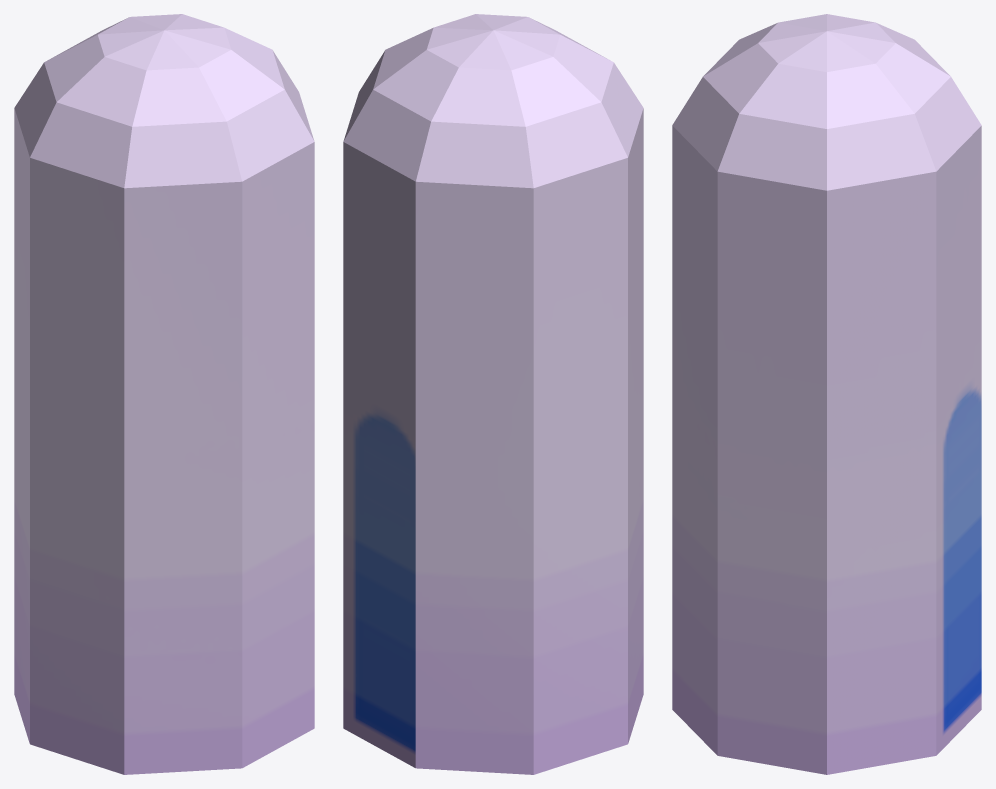
The model's file is wala_building04.fbx.
3 views of the same model, side by side, from view 1: azimuth 30°, elevation 25°; view 2: azimuth 150°, elevation 25°; view 3: azimuth 270°, elevation 25° (orthographic).
Visible parts, largest first — view 1: wala_building04; view 2: wala_building04; view 3: wala_building04.
Part boxes in pixels (x1,y1,x2,y2): wala_building04: (14, 14, 314, 774); wala_building04: (343, 14, 643, 774); wala_building04: (672, 14, 981, 774).
Bounding box in the file's own units: 3.25 × 7.87 × 3.25.
